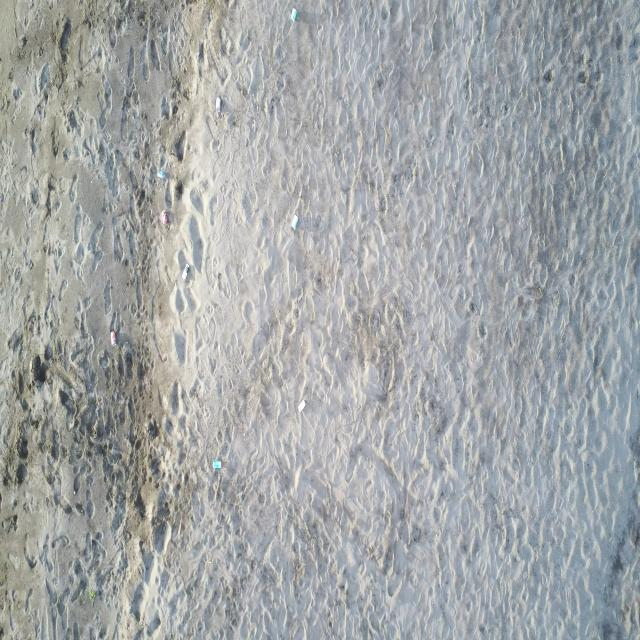tin-and-aluminum-cans: (181, 262, 190, 281), (290, 213, 298, 231), (298, 399, 306, 413), (110, 330, 117, 346), (215, 96, 221, 114), (161, 209, 168, 224), (212, 460, 222, 470), (291, 7, 297, 23), (157, 170, 165, 180)
